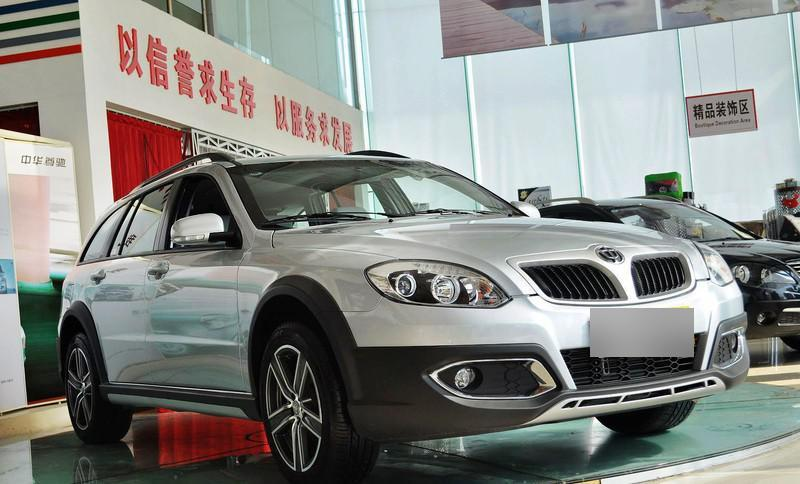Wagon: (55, 149, 752, 484)
